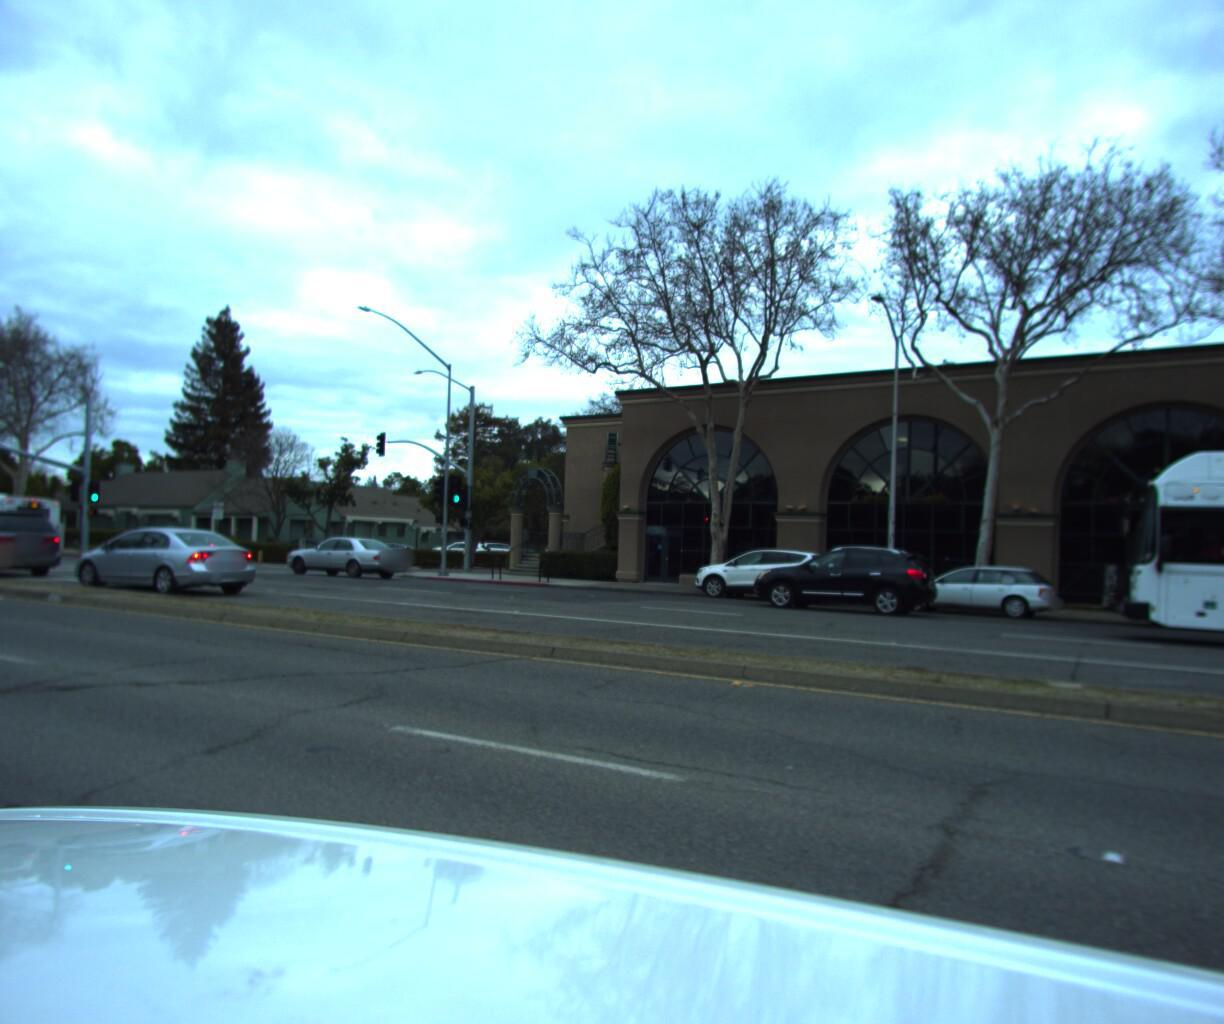bus: (1108, 417, 1224, 733), (0, 486, 68, 552)
car: (56, 518, 263, 597), (747, 534, 941, 616), (876, 554, 1063, 622), (681, 539, 842, 604), (1114, 551, 1224, 642), (283, 529, 409, 574), (0, 500, 69, 573)
